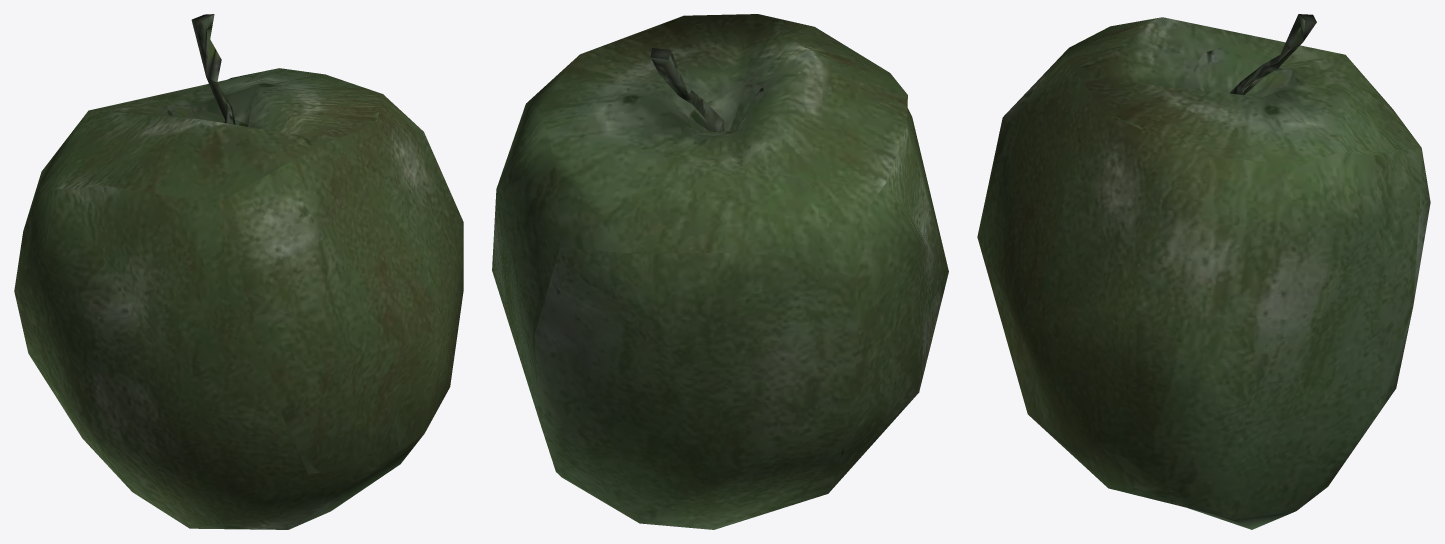
File: Green_Apple.glb
The picture shows the model from 3 angles, left to right: view 1: azimuth 30°, elevation 25°; view 2: azimuth 150°, elevation 25°; view 3: azimuth 270°, elevation 25°; orthographic projection. The views are drawn at different scales.
Visible parts, largest first — view 1: SM_Green_Apple; view 2: SM_Green_Apple; view 3: SM_Green_Apple.
Boxes of the visible parts, box(x1,y1,x2,y2) form: SM_Green_Apple: box(14, 14, 463, 529); SM_Green_Apple: box(492, 14, 948, 529); SM_Green_Apple: box(977, 14, 1430, 529).
Size of the model in its own units: 0.1281 by 0.1424 by 0.1237.
1 material, 1 textured.
